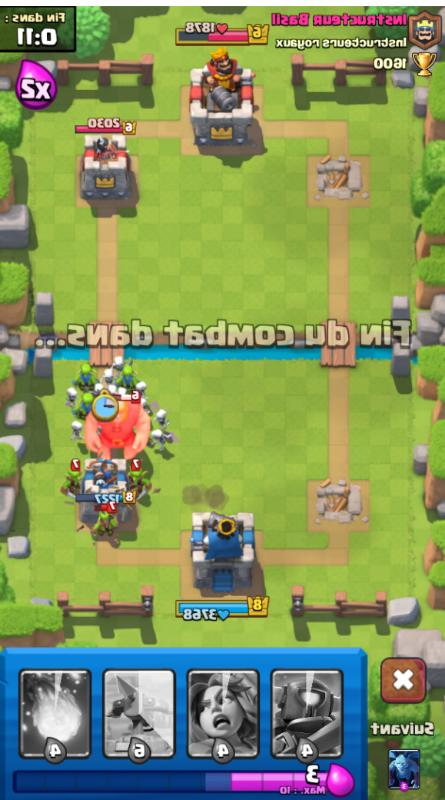geant: (82, 396, 149, 460)
gobelin: (126, 462, 151, 505), (115, 358, 145, 391), (69, 362, 100, 393), (86, 511, 120, 538), (70, 393, 98, 422), (56, 468, 83, 498)
squelette: (151, 430, 179, 452), (108, 354, 137, 373), (67, 420, 89, 442), (151, 407, 170, 432), (63, 386, 81, 409), (96, 362, 115, 383), (134, 396, 152, 414), (88, 382, 104, 400), (133, 382, 149, 396), (105, 383, 117, 401), (117, 386, 130, 401)
